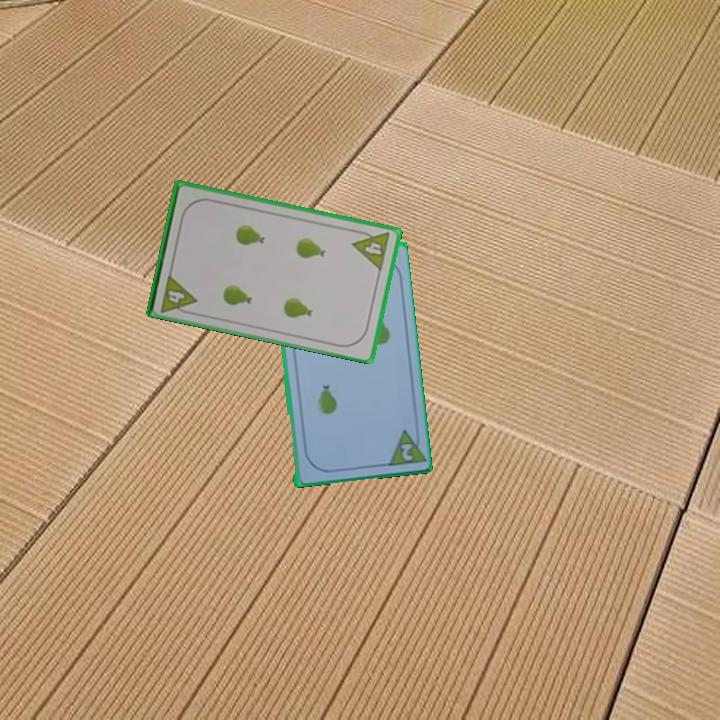2p: (397, 439, 415, 464)
4p: (349, 226, 393, 273), (157, 270, 199, 318)
